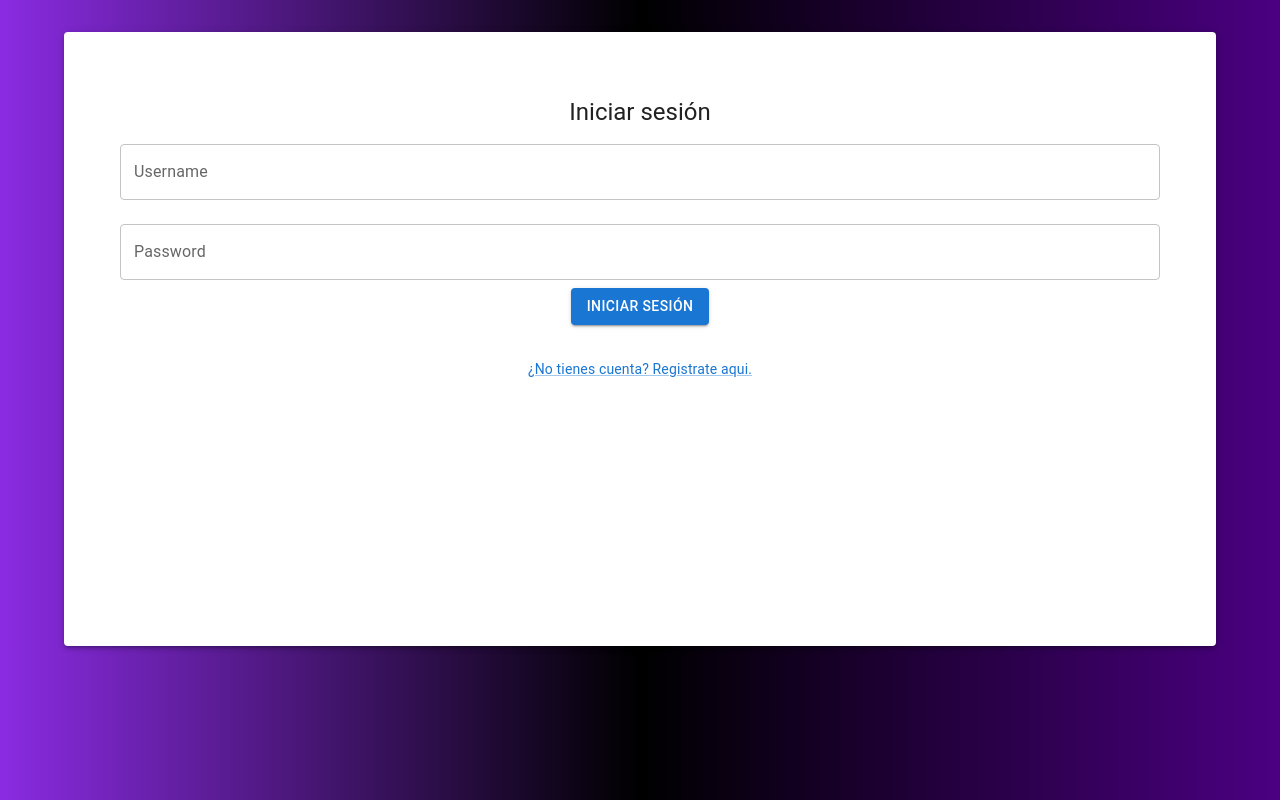
App › tests link Iniciar sesion
Click the button "¿No tienes cuenta? Registrate aqui.": click(640, 369) [528,359,752,379]
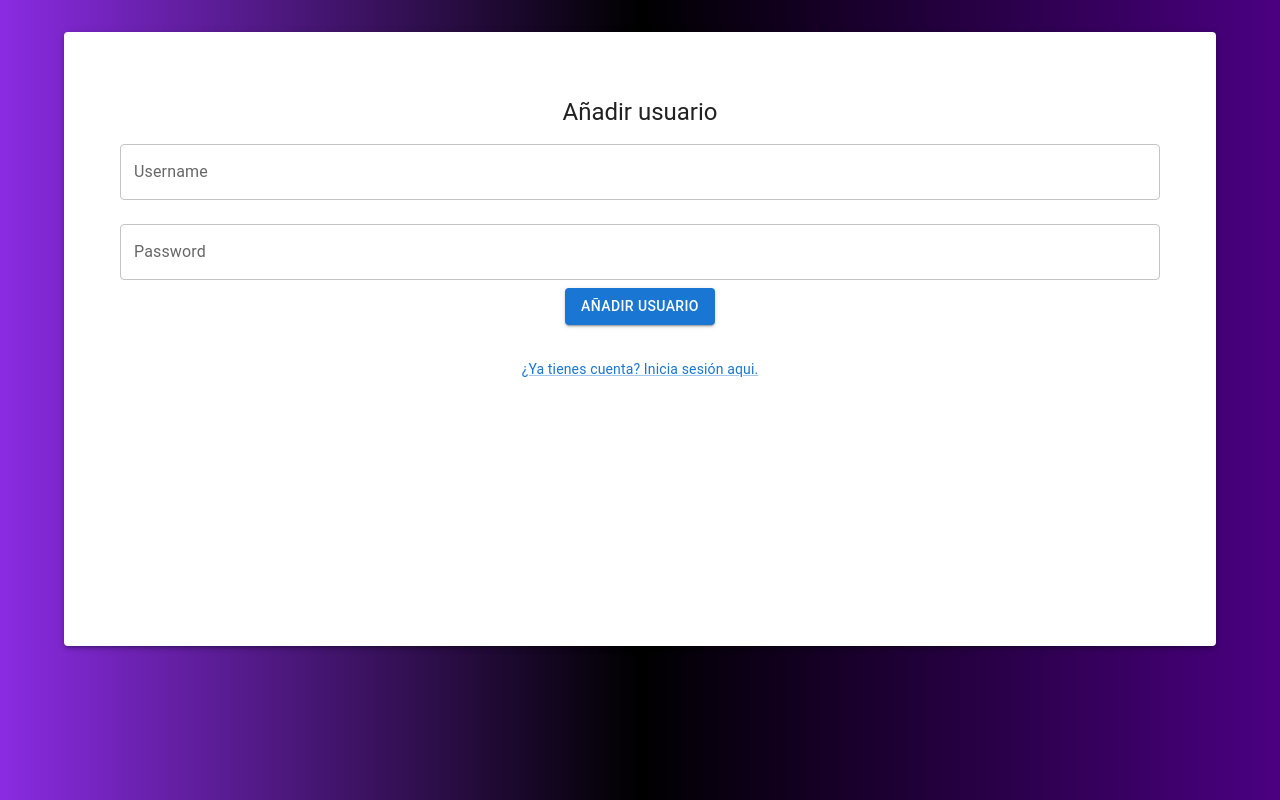
Click the button "¿Ya tienes cuenta? Inicia sesión aqui.": click(640, 369) [522,359,758,379]
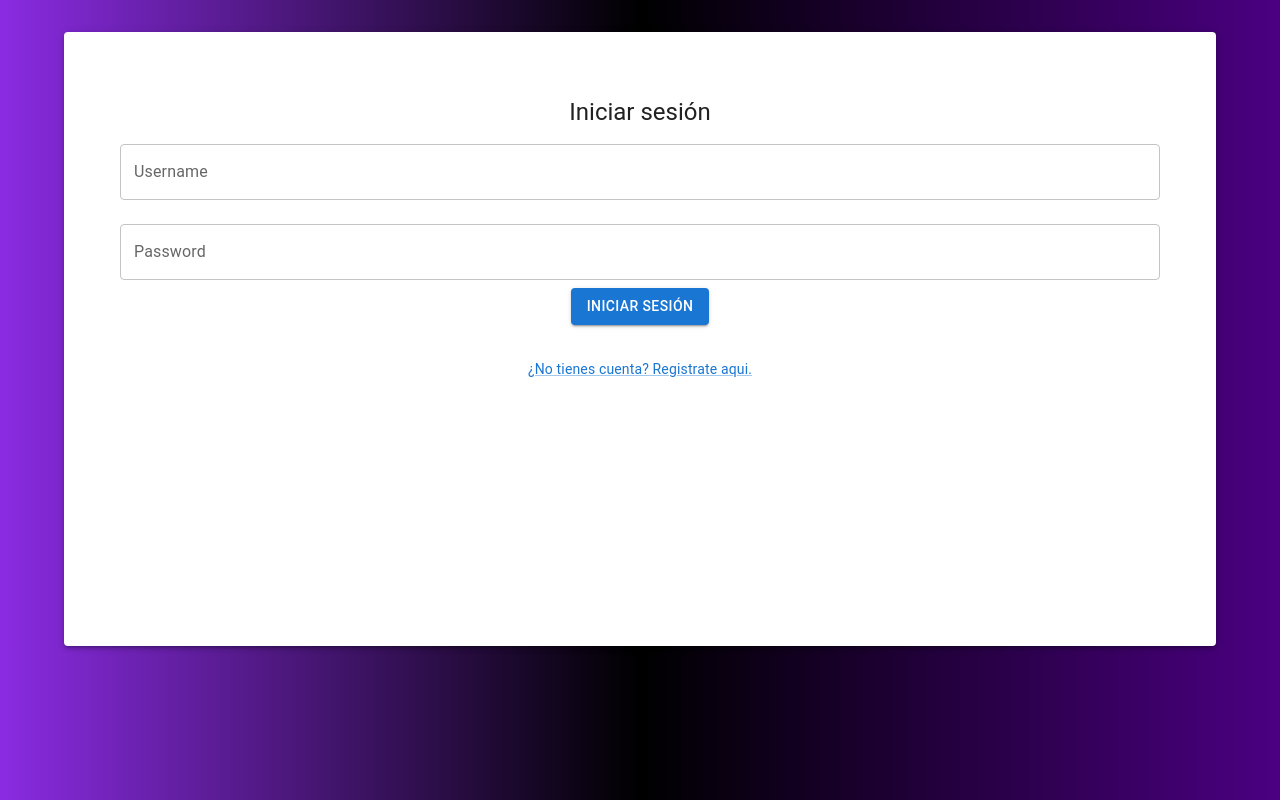
Expected: the heading "Iniciar sesión" is shown, [569,98,711,126]
